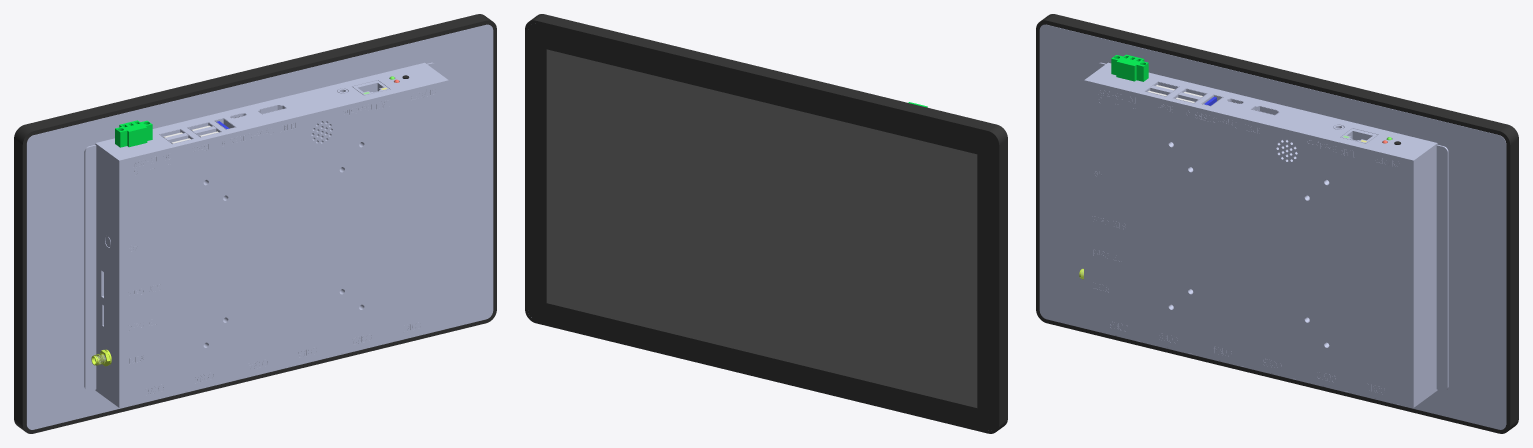
Rendered from PPC-A72-125-C.fbx.
The picture shows the model from 3 angles, left to right: view 1: azimuth 30°, elevation 25°; view 2: azimuth 150°, elevation 25°; view 3: azimuth 330°, elevation 25°; orthographic projection.
Visible parts, largest first — view 1: Part 127, Part 130, Part 129; view 2: Part 126, Part 130; view 3: Part 127, Part 130, Part 129.
Boxes of the visible parts, <box> form: Part 127: <box>26,24,493,429</box>; Part 130: <box>14,14,496,433</box>; Part 129: <box>115,120,152,147</box>; Part 126: <box>546,49,977,407</box>; Part 130: <box>525,14,1007,433</box>; Part 127: <box>1039,24,1506,429</box>; Part 130: <box>1036,14,1518,433</box>; Part 129: <box>1111,54,1148,81</box>.
Size of the model in its own units: 30.5 by 18.6 by 3.67.
